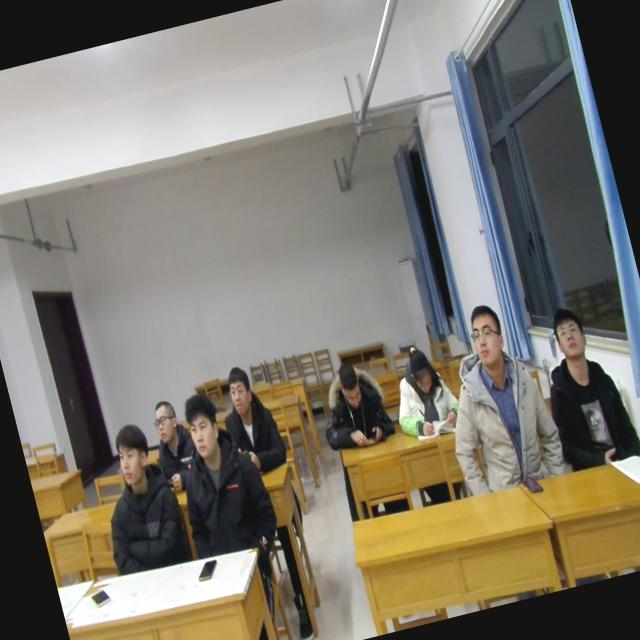down: (397, 336, 437, 402), (331, 356, 366, 410)
lookup: (106, 414, 162, 492), (174, 386, 226, 460), (462, 294, 512, 368), (546, 300, 592, 368), (144, 389, 183, 447), (219, 362, 259, 418)
sit: (419, 292, 568, 496), (160, 384, 288, 604), (529, 293, 640, 470), (82, 412, 194, 574), (306, 338, 396, 456), (382, 328, 468, 444), (216, 361, 288, 476), (138, 389, 200, 488)
